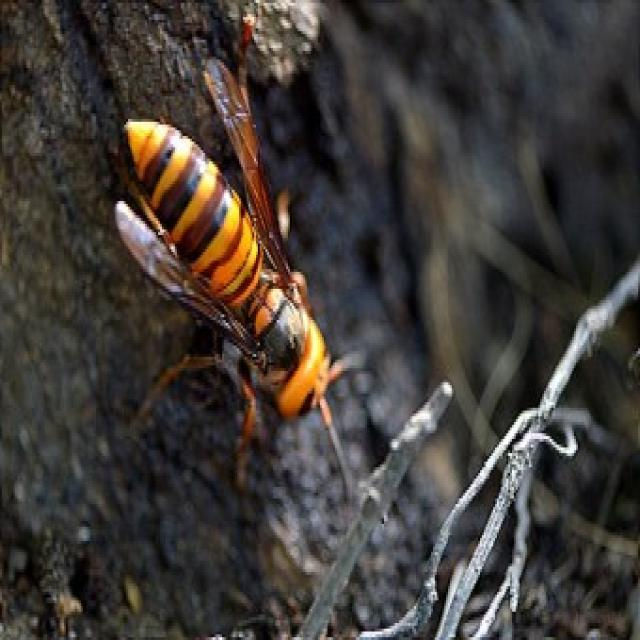Wasp: (113, 100, 355, 502)
